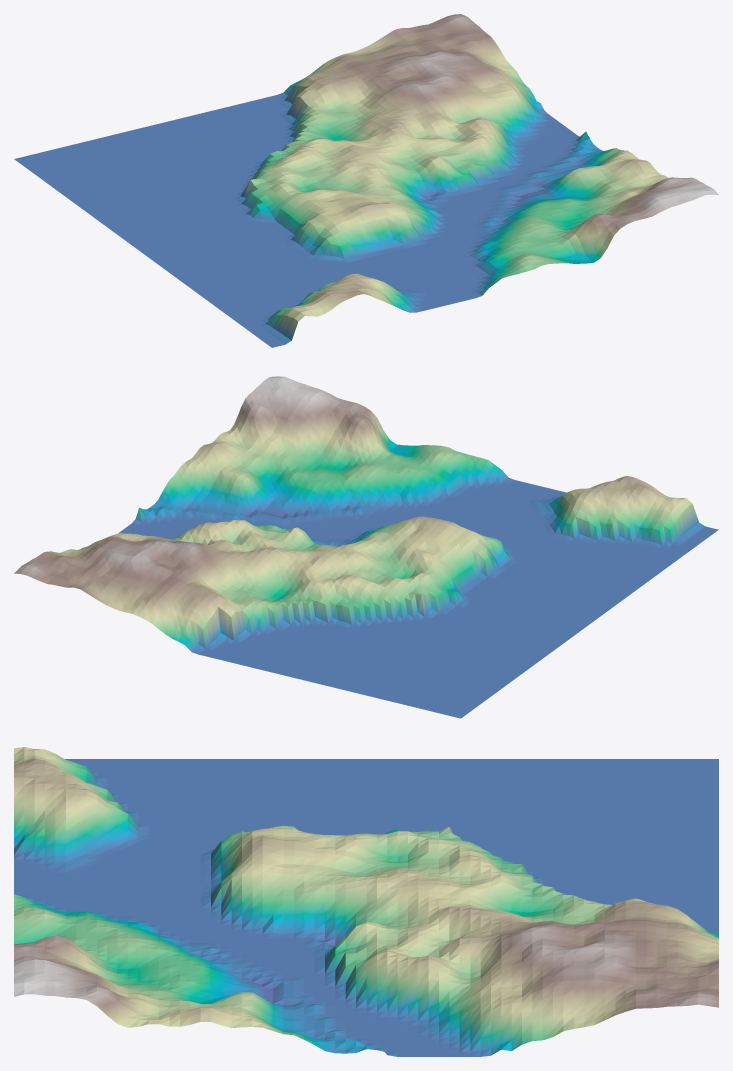
File: 001341_terrain_only.glb
3 renders of one model, top to bottom at view 1: azimuth 30°, elevation 25°; view 2: azimuth 150°, elevation 25°; view 3: azimuth 270°, elevation 25°, orthographic. The views are drawn at different scales.
Visible parts, largest first — view 1: terrain; view 2: terrain; view 3: terrain.
Part boxes in pixels (left/top/right/bottom): terrain: left=14, top=14, right=718, bottom=347; terrain: left=14, top=376, right=718, bottom=718; terrain: left=14, top=747, right=718, bottom=1056.
Bounding box in the file's own units: 0.0183 × 0.00196 × 0.0183.
